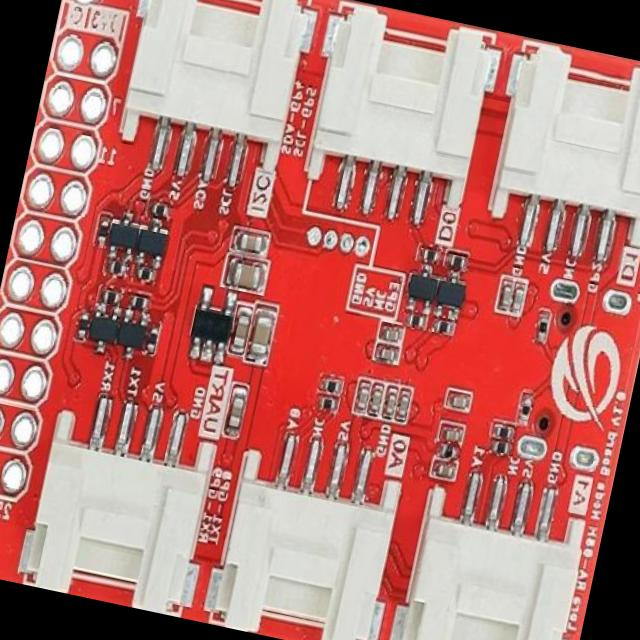IC: (186, 287, 236, 359)
capacitor: (250, 312, 274, 356), (230, 258, 263, 290), (227, 390, 246, 426), (236, 232, 262, 255), (232, 314, 250, 344), (499, 282, 514, 310), (368, 388, 383, 416), (396, 393, 411, 418), (448, 394, 470, 411), (510, 286, 524, 310), (384, 393, 398, 416), (434, 462, 454, 478), (356, 386, 369, 408), (379, 345, 395, 361), (382, 327, 399, 342), (443, 428, 459, 440)
connector: (302, 4, 497, 210), (19, 412, 214, 613), (216, 452, 400, 640), (485, 39, 640, 254), (118, 0, 305, 172), (401, 488, 584, 640)
resistor: (534, 312, 549, 343), (107, 257, 125, 276), (136, 266, 154, 284), (518, 397, 532, 420), (493, 424, 511, 441), (434, 319, 454, 334), (448, 252, 464, 270), (491, 440, 508, 456), (441, 444, 457, 461), (102, 290, 119, 306), (407, 313, 425, 328), (146, 326, 158, 348), (323, 378, 339, 394), (152, 200, 168, 216), (131, 294, 148, 309), (96, 220, 108, 240), (320, 396, 337, 410), (76, 316, 86, 336), (424, 247, 436, 261)
transistor: (112, 308, 150, 362), (87, 303, 119, 355), (432, 272, 468, 318), (402, 266, 438, 312), (134, 219, 170, 264), (107, 214, 140, 256)
